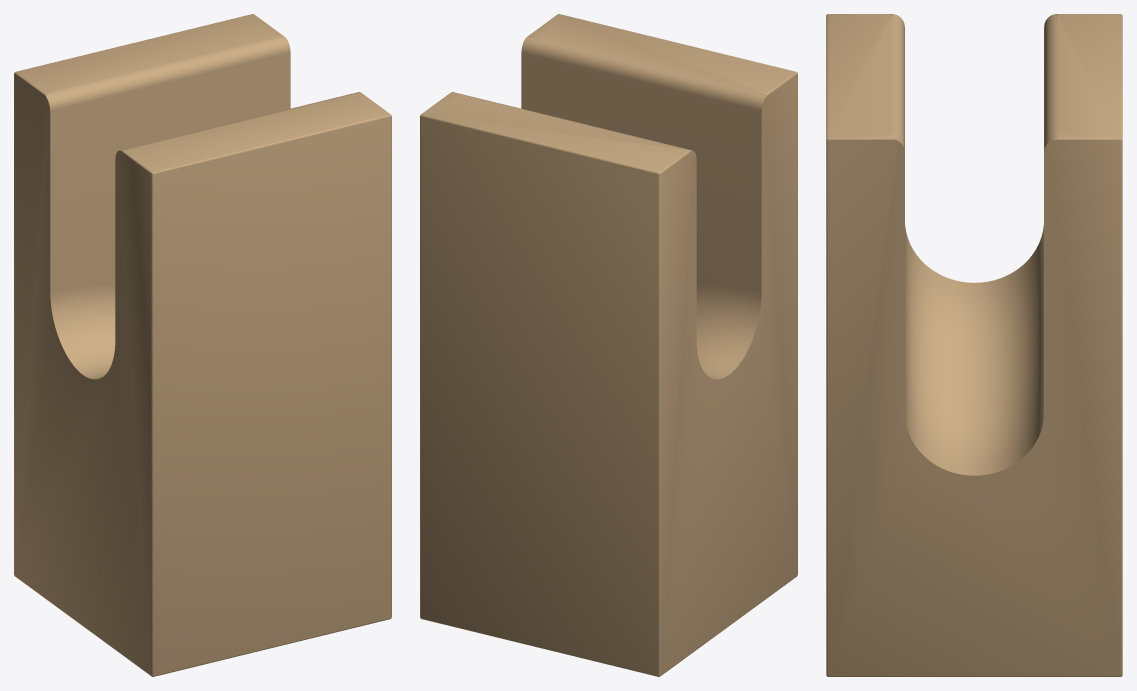
The model's file is blk_slope_gentle_l0.glb.
3 renders of one model, left to right at view 1: azimuth 30°, elevation 25°; view 2: azimuth 150°, elevation 25°; view 3: azimuth 270°, elevation 25°, orthographic. The views are drawn at different scales.
Parts seen in each view (by area): view 1: blk_slope_gentle_l0_lod0; view 2: blk_slope_gentle_l0_lod0; view 3: blk_slope_gentle_l0_lod0.
Boxes of the visible parts, x1,y1,x2,y2 form: blk_slope_gentle_l0_lod0: [14, 14, 391, 676]; blk_slope_gentle_l0_lod0: [420, 14, 797, 676]; blk_slope_gentle_l0_lod0: [826, 14, 1122, 676].
Size of what is drawn, in the model's own units: 0.0596 by 0.1196 by 0.0596.
